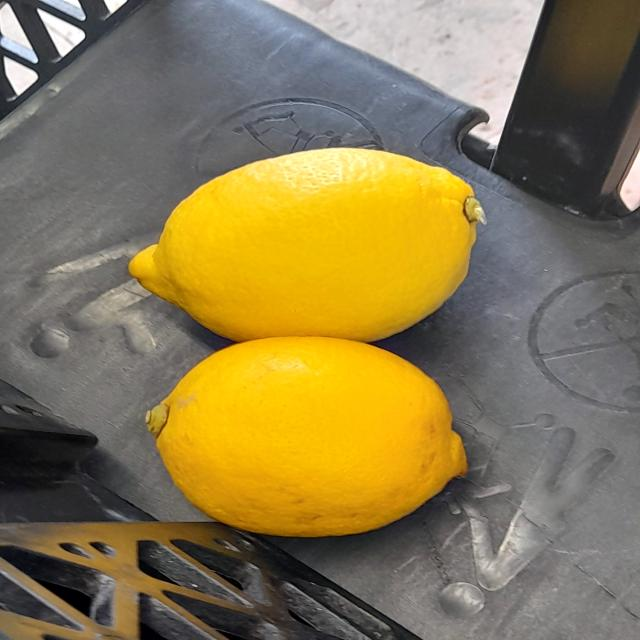lemon: (121, 136, 499, 353), (121, 322, 489, 529)
